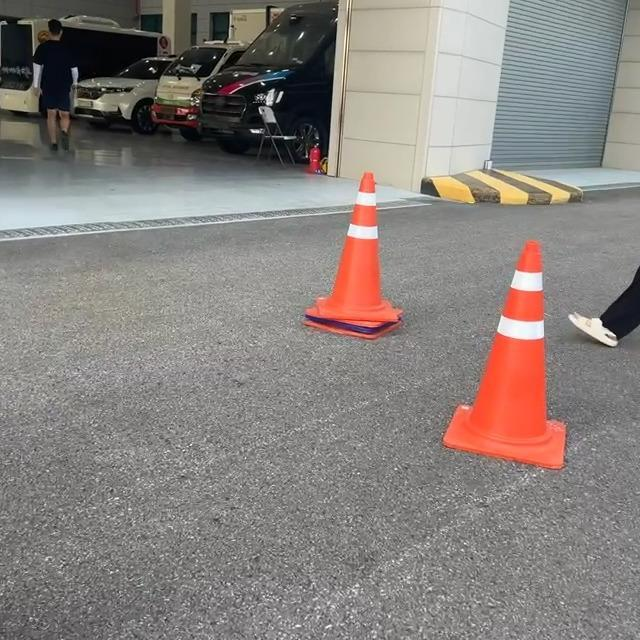fallen_object: (447, 199, 606, 474), (259, 117, 393, 320)
